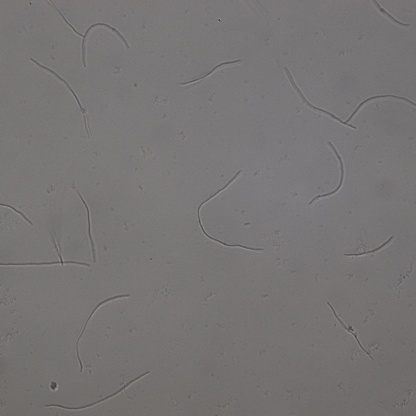Sensitive: (197, 170, 263, 252), (48, 1, 129, 67), (32, 60, 92, 137), (44, 370, 150, 413), (75, 293, 129, 375), (285, 70, 356, 127), (328, 302, 372, 359), (309, 140, 346, 206), (346, 94, 416, 122), (74, 191, 97, 262), (182, 59, 242, 85), (1, 258, 91, 271), (343, 237, 395, 259), (372, 1, 412, 26), (1, 202, 32, 226)
